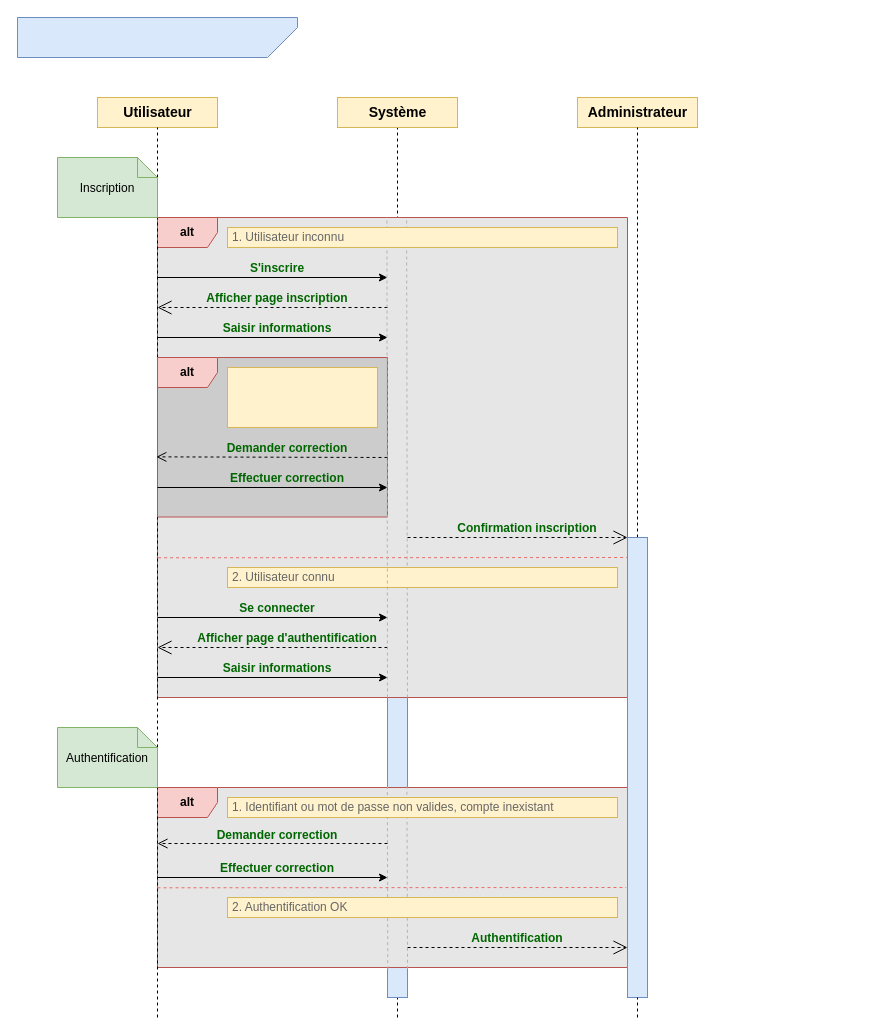
Image size: 893x1036. Some labels were removed from this diagram. The shapes that lost their labels are listed below. From the top down, each one's centre as x and y in pixels, then its label:
At point (157, 37): "sd Authentification".
At point (302, 397): "1.1 Utilisateur déjà inscrit, identifiant non disponible, erreur de saisie".
